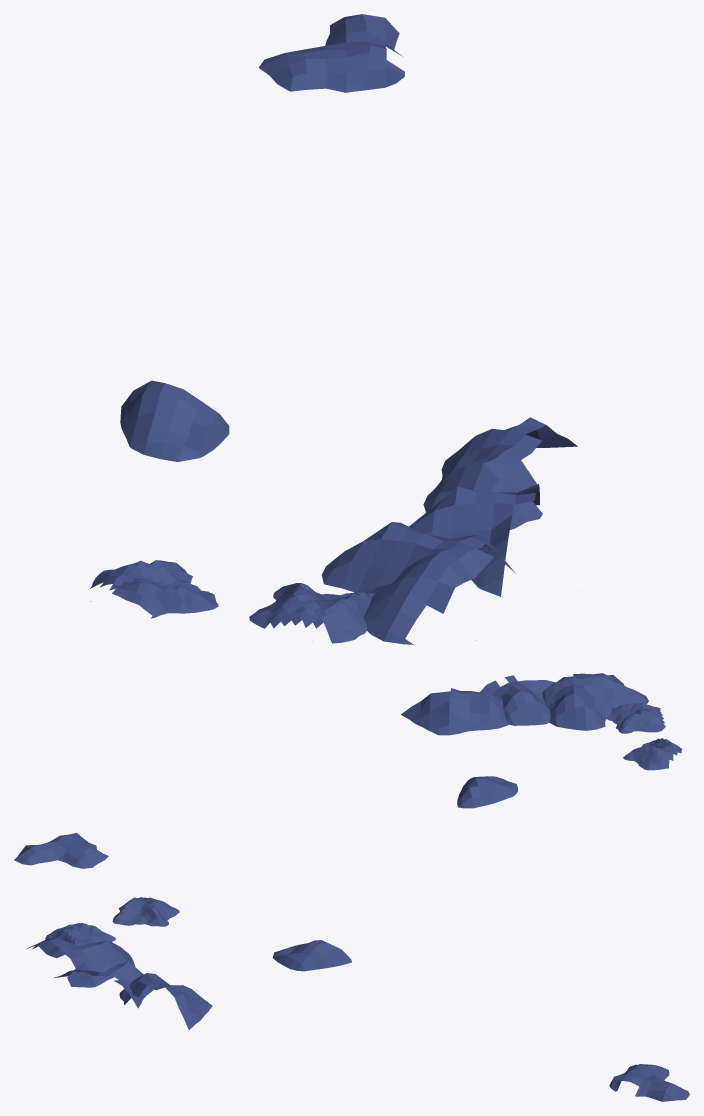
The model's file is rocks-1.dae.
3 views of the same model, one above another, from view 1: azimuth 30°, elevation 25°; view 2: azimuth 150°, elevation 25°; view 3: azimuth 270°, elevation 25° (orthographic). The views are drawn at different scales.
Parts seen in each view (by area): view 1: rocks; view 2: rocks; view 3: rocks.
Part boxes in pixels (left/top/right/bottom): rocks: left=90, top=14, right=581, bottom=644; rocks: left=14, top=673, right=682, bottom=868; rocks: left=26, top=897, right=689, bottom=1101.
Size of the model in its own units: 432421 by 25250 by 615337.
